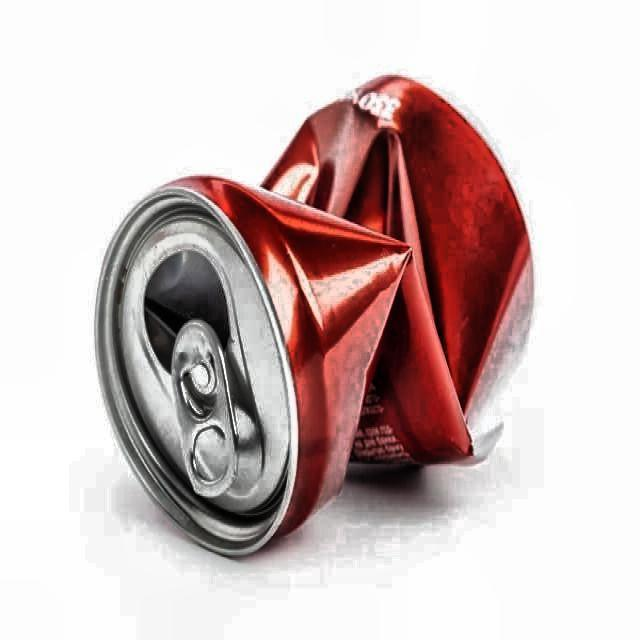metal: (92, 76, 536, 562)
